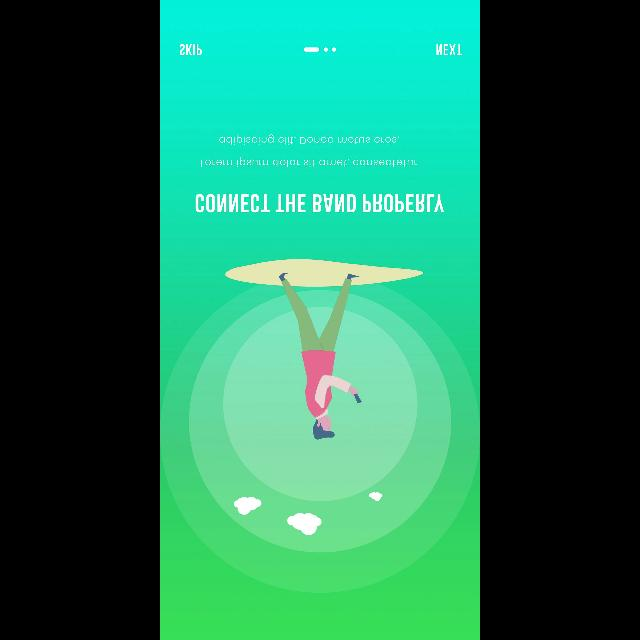backgroundimage: (160, 1, 480, 640)
pageindicator: (304, 48, 336, 52)
text: (201, 134, 417, 168), (196, 194, 444, 212), (436, 44, 462, 56), (180, 44, 202, 56)
